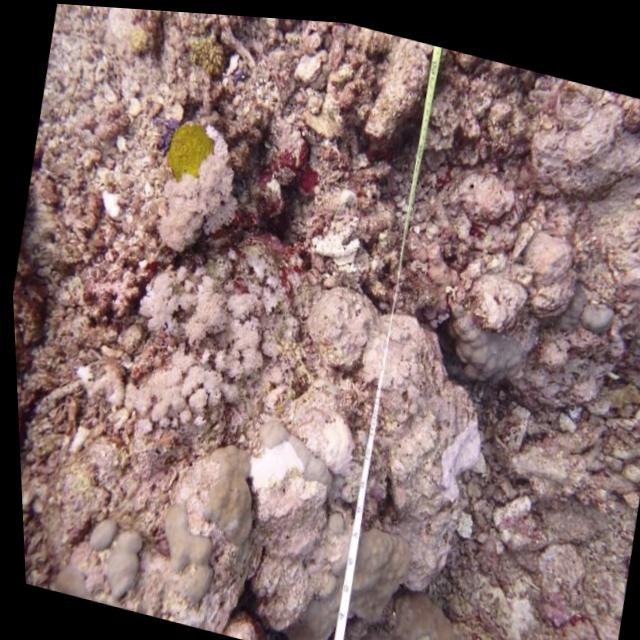Bleached Coral: (57, 231, 281, 471), (217, 389, 363, 544), (277, 157, 387, 288), (399, 391, 509, 517)
